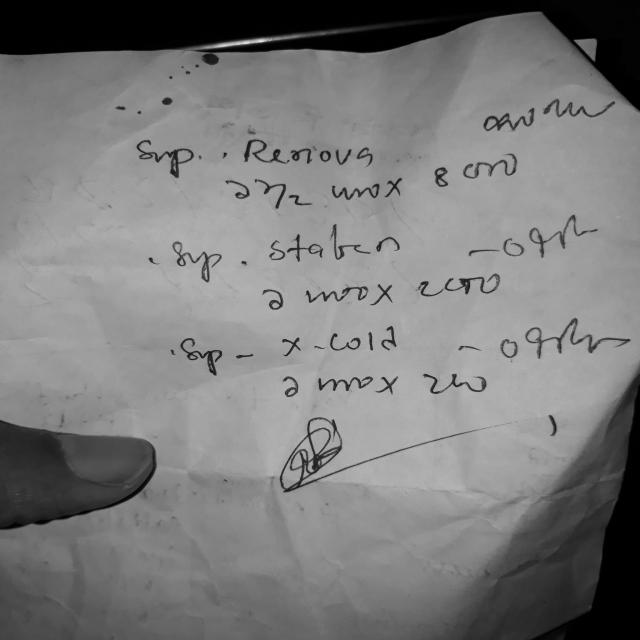Renova: (236, 130, 386, 176)
X-Cold: (274, 330, 408, 366)
